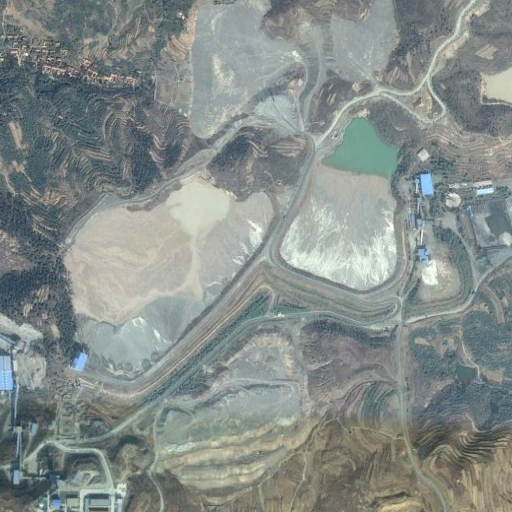tp: (56, 179, 279, 393), (270, 112, 415, 314)
